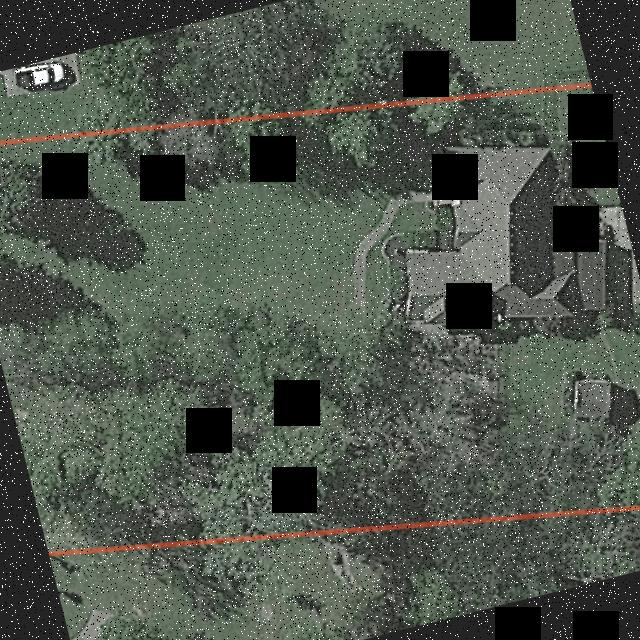Driveway: (352, 190, 435, 308)
House: (401, 142, 602, 330)
Other: (573, 377, 610, 416)
